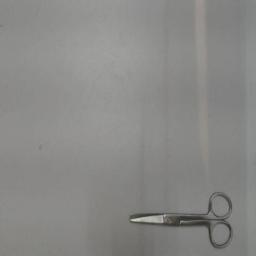Dressing Scissors: (122, 187, 236, 253)
